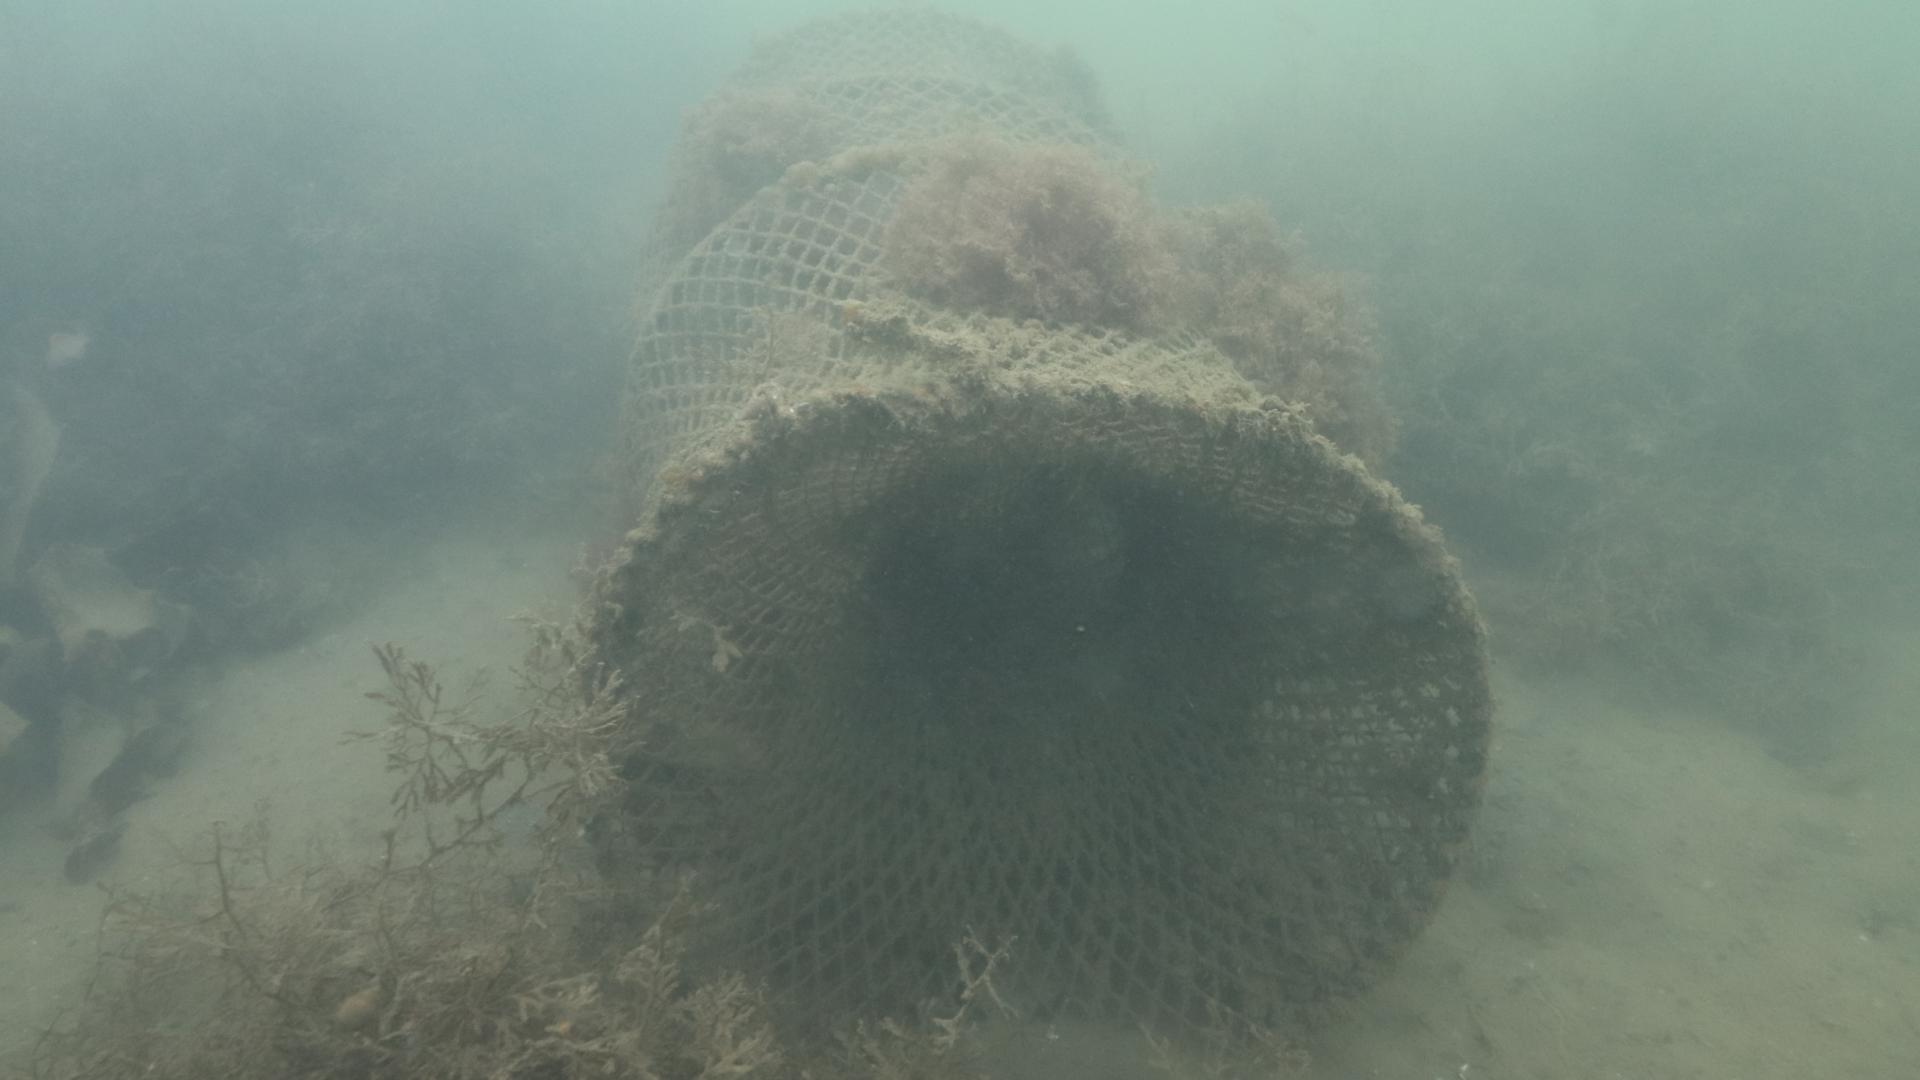spring fish trap: (578, 5, 1493, 1080)
